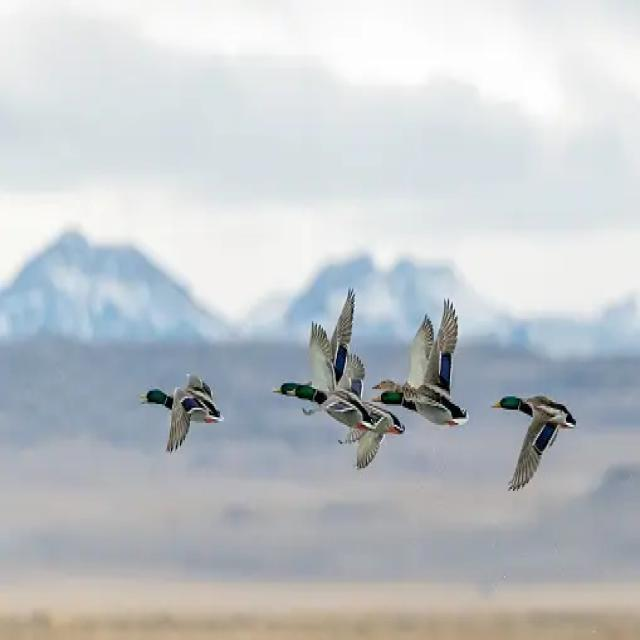ducks: (484, 342, 591, 504), (290, 306, 388, 466), (131, 332, 231, 485), (377, 298, 467, 462)
